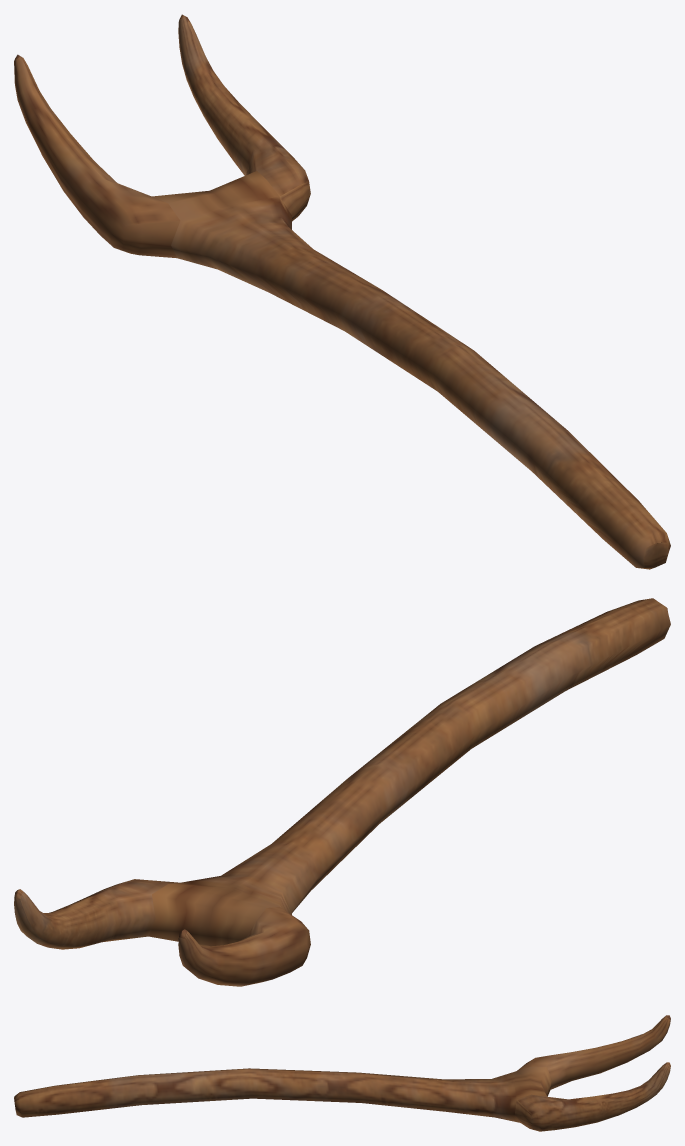
The model's file is fork_wooden.glb.
The picture shows the model from 3 angles, top to bottom: view 1: azimuth 30°, elevation 25°; view 2: azimuth 150°, elevation 25°; view 3: azimuth 270°, elevation 25°; orthographic projection. The views are drawn at different scales.
Parts seen in each view (by area): view 1: Object_22; view 2: Object_22; view 3: Object_22.
Part boxes in pixels (<box>): Object_22: <box>14,14,670,569</box>; Object_22: <box>14,598,670,986</box>; Object_22: <box>14,1015,670,1131</box>.
Size of the model in its own units: 0.0615 by 0.0391 by 0.2987.
Materials: 1 (1 with a texture image).
